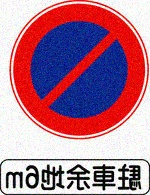Prohibition_sign: (9, 1, 150, 139)
